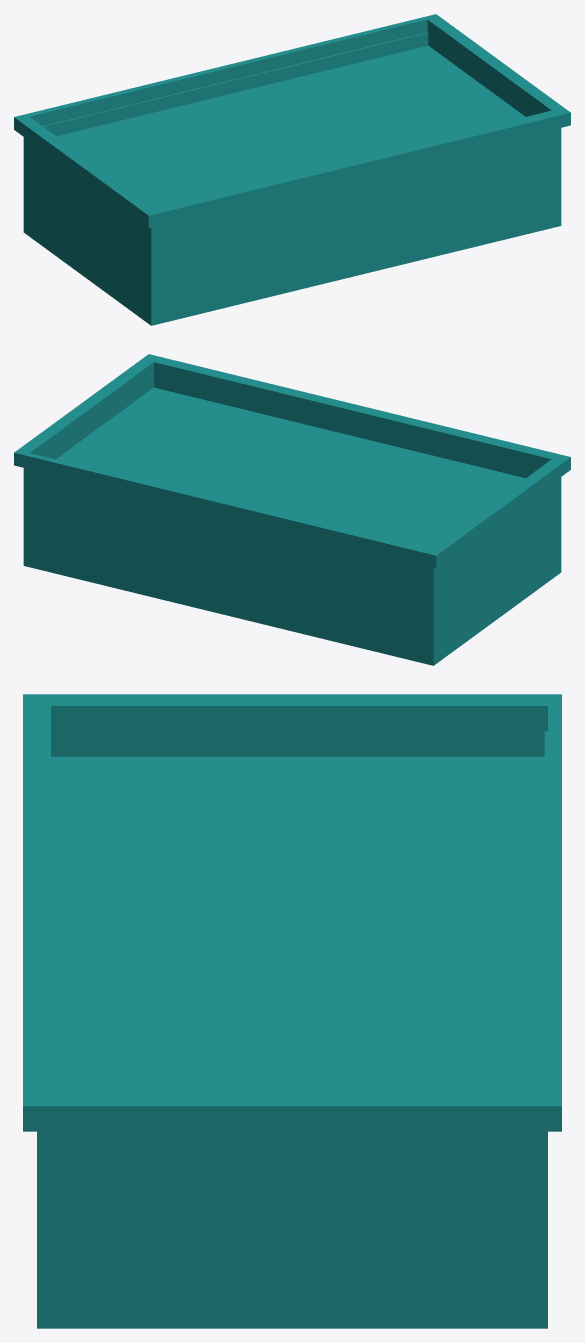
Rendered from original-28.obj.
3 views of the same model, one above another, from view 1: azimuth 30°, elevation 25°; view 2: azimuth 150°, elevation 25°; view 3: azimuth 270°, elevation 25° (orthographic). The views are drawn at different scales.
Visible parts, largest first — view 1: Group_20/mesh131/mesh131-geometry#mesh131-geometry; view 2: Group_20/mesh131/mesh131-geometry#mesh131-geometry; view 3: Group_20/mesh131/mesh131-geometry#mesh131-geometry.
Boxes of the visible parts, left/top/right/bottom form: Group_20/mesh131/mesh131-geometry#mesh131-geometry: left=14, top=14, right=570, bottom=325; Group_20/mesh131/mesh131-geometry#mesh131-geometry: left=14, top=354, right=570, bottom=665; Group_20/mesh131/mesh131-geometry#mesh131-geometry: left=23, top=694, right=561, bottom=1328.
Size of the model in its own units: 1.64 by 0.4241 by 0.9073.
